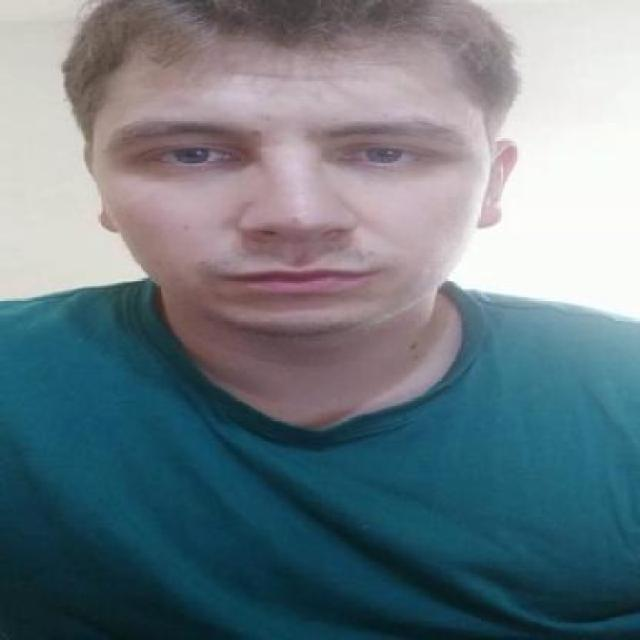awake: (337, 140, 437, 168), (137, 142, 234, 168)
